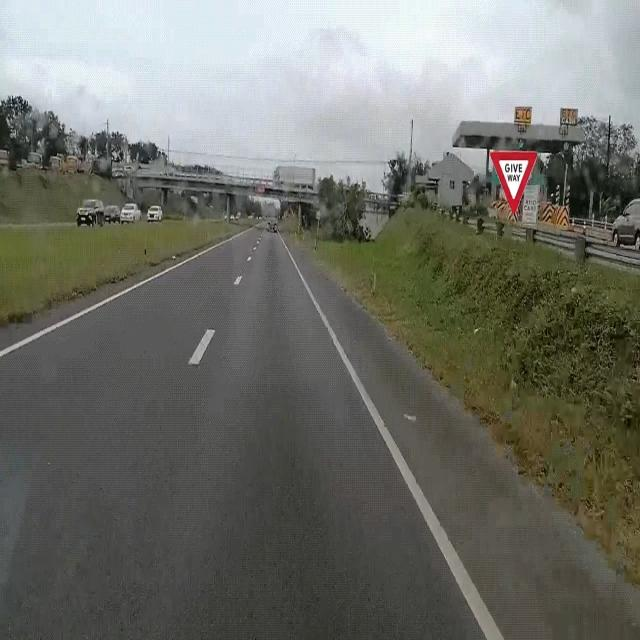Ceder-le-Passage: (483, 134, 541, 220)
